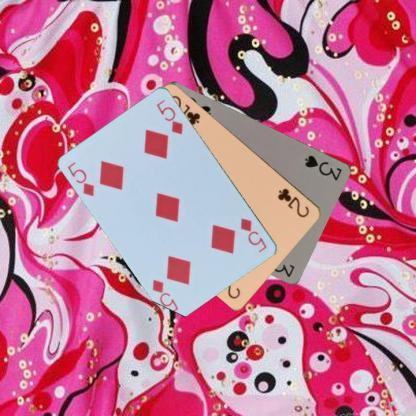2c: (275, 185, 311, 219)
3s: (301, 152, 344, 182)
5d: (65, 160, 96, 198), (238, 216, 268, 254)
